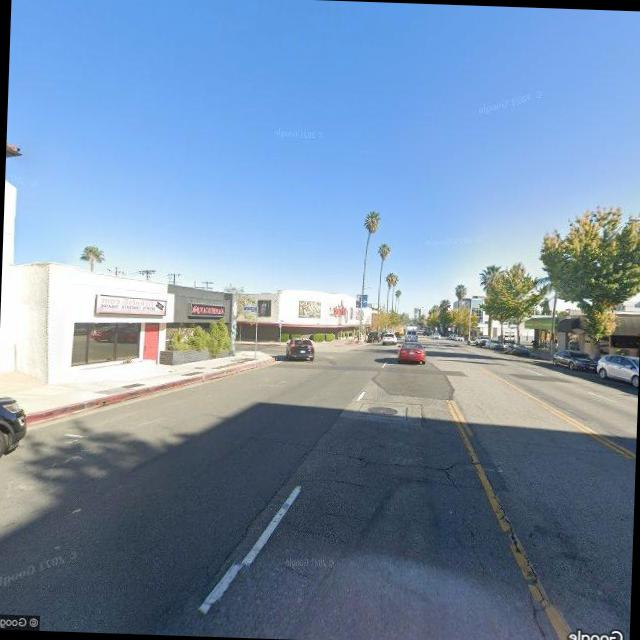crack: (485, 471, 551, 607), (310, 442, 470, 476), (462, 516, 489, 576)
